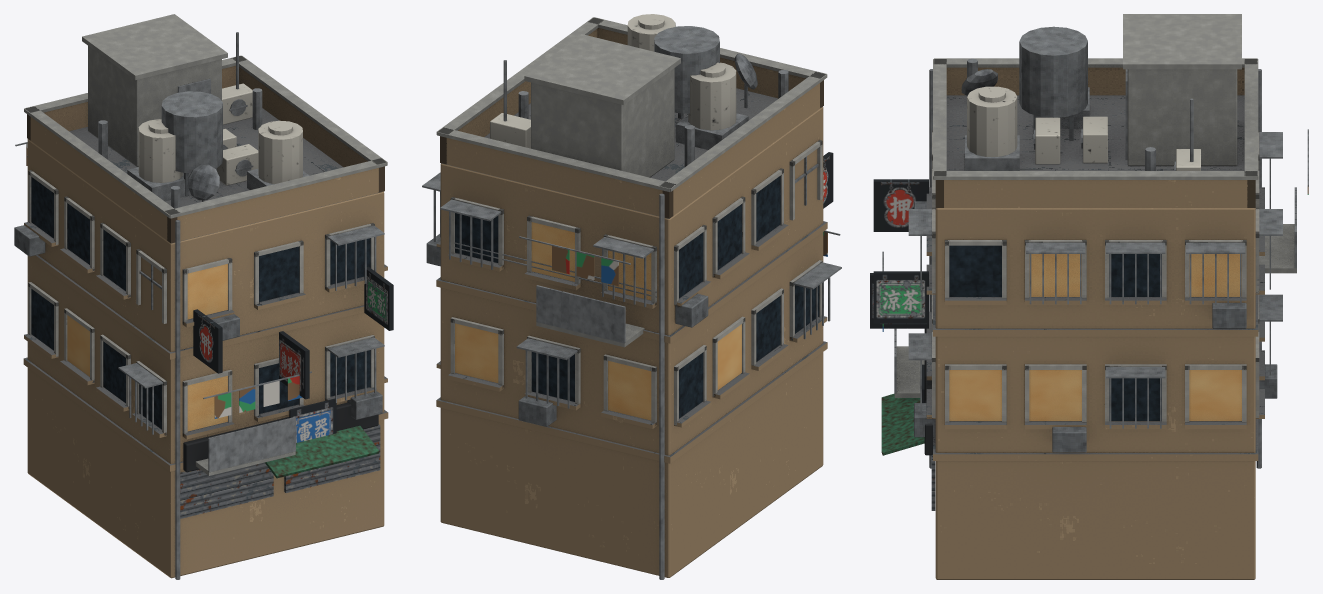
Rendered from city_row_mid.glb.
3 views of the same model, side by side, from view 1: azimuth 30°, elevation 25°; view 2: azimuth 150°, elevation 25°; view 3: azimuth 270°, elevation 25° (orthographic). The views are drawn at different scales.
Visible parts, largest first — view 1: city_row_mid.001; view 2: city_row_mid.001; view 3: city_row_mid.001.
Part boxes in pixels (x1,y1,x2,y2): city_row_mid.001: (14,14,393,579); city_row_mid.001: (422,14,841,579); city_row_mid.001: (870,14,1308,579).
Size of the model in its own units: 7.19 by 11.52 by 9.6.
Materials: 18 (18 with a texture image).
